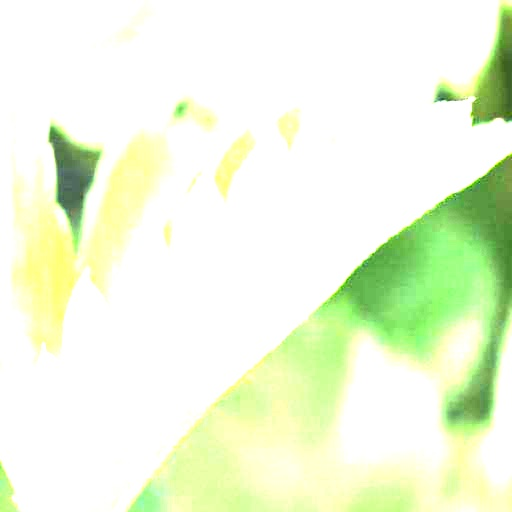Powdery Mildew Leaf: (0, 74, 511, 511)
